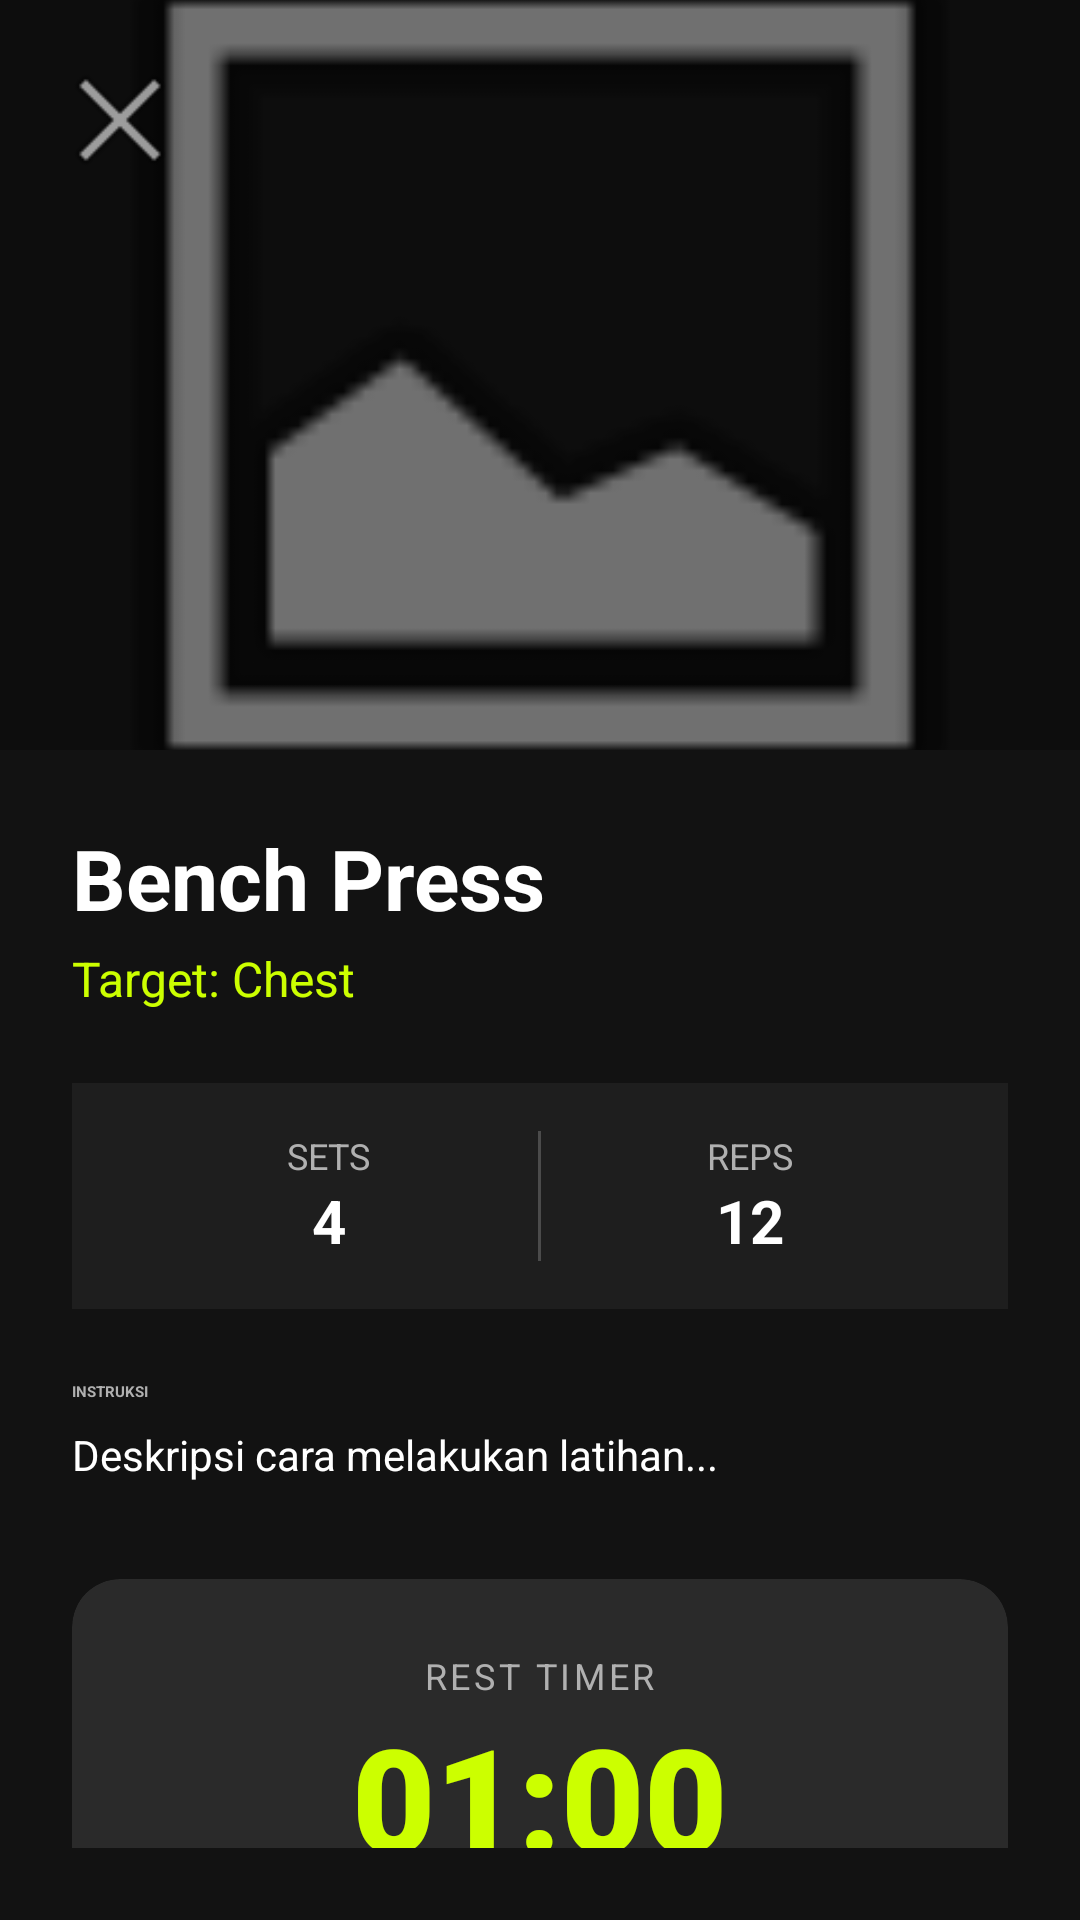

Where icons sit on this 1080px×1920px app screen, as (x1, y1, x2, y2):
close clear cancel: (79, 48, 192, 192)
